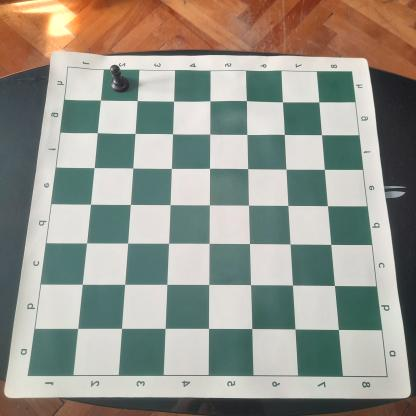black-pawn: (109, 63, 130, 94)
